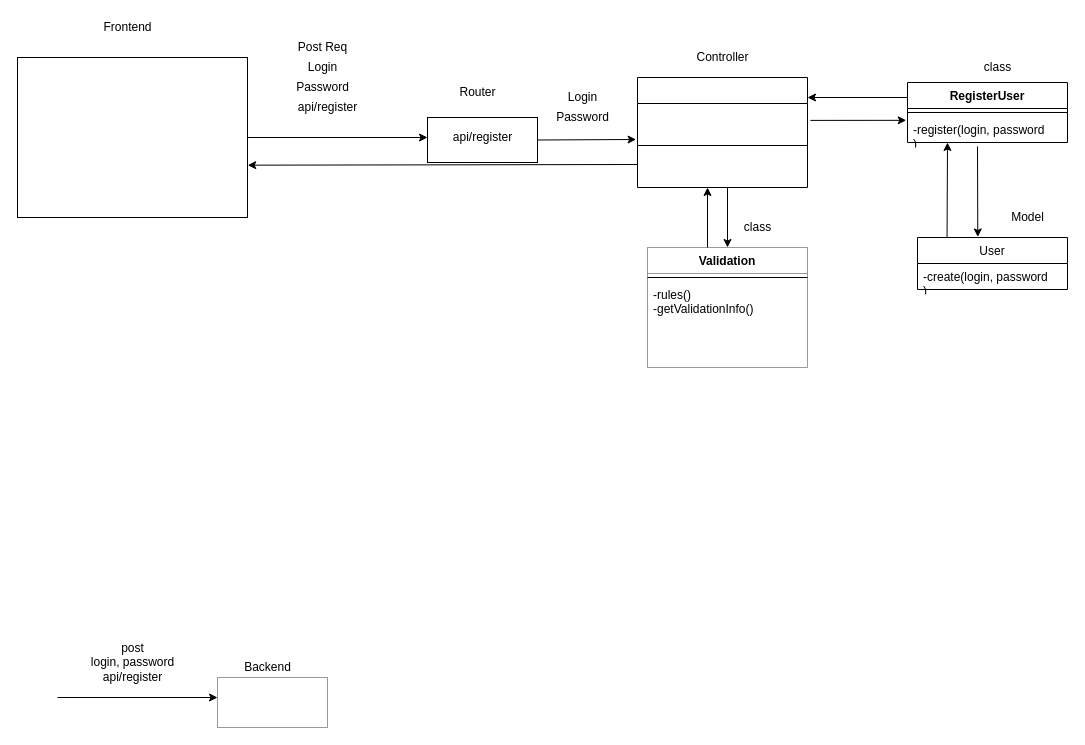
This 1085x745 diagram has some shape labels left out. The centre of each missing label's shape, as x and y in pixels:
Register: the point at 722,132
Register form: the point at 132,137
